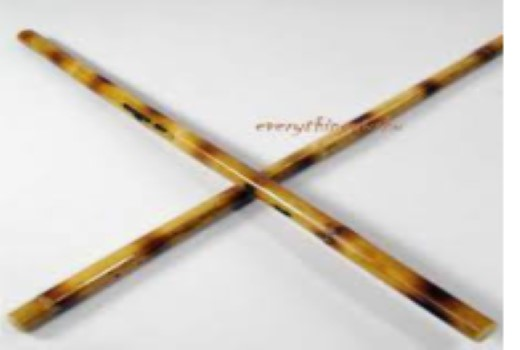baston_e: (38, 33, 497, 333), (19, 42, 493, 316)
baston_v: (461, 299, 500, 346), (0, 303, 39, 337), (9, 24, 42, 47)
